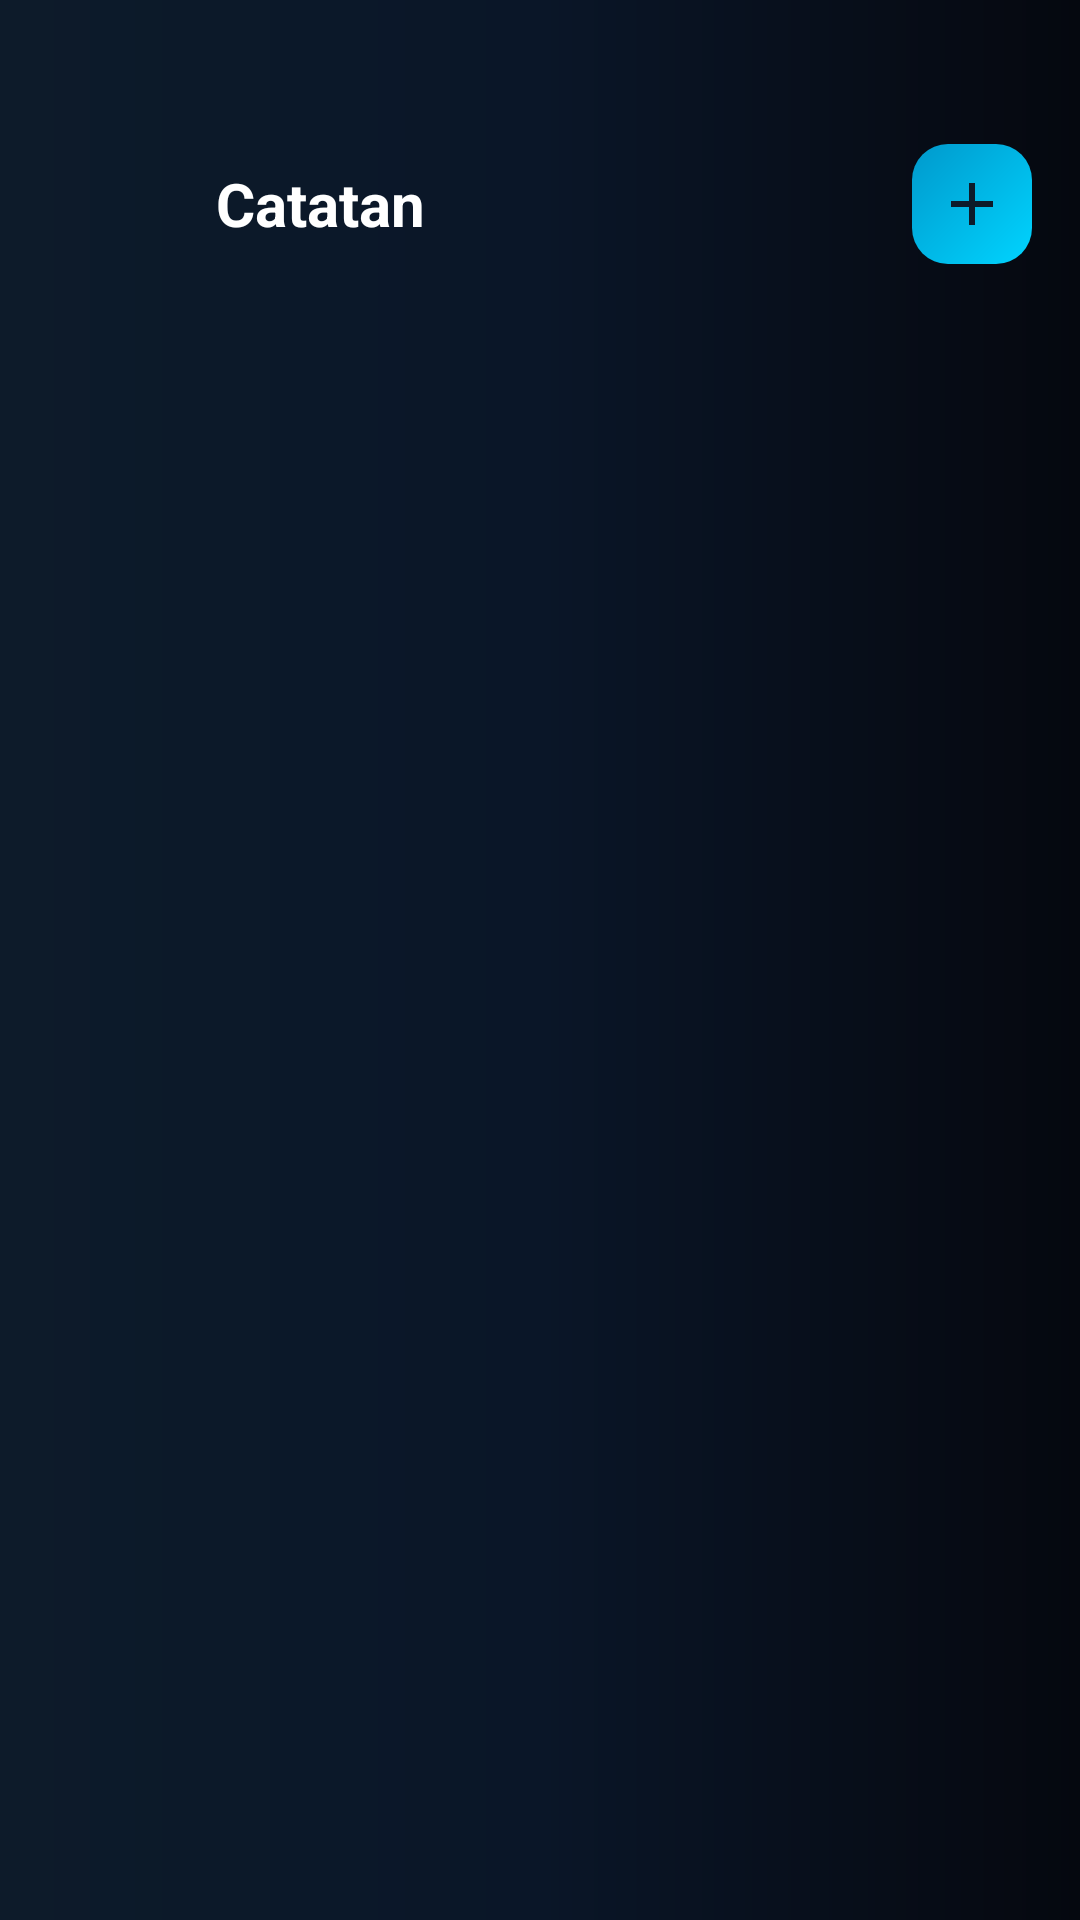

Named icons in this screenshot (1080×1920) and their bounding boxes, (left=x1, top=y1, right=x2, bottom=y2):
Tambah: (left=912, top=144, right=1032, bottom=264)
